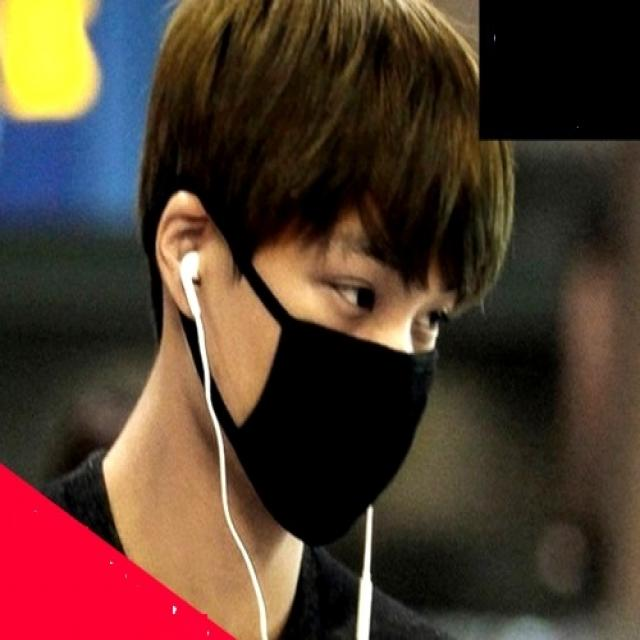mask: (219, 134, 470, 543)
